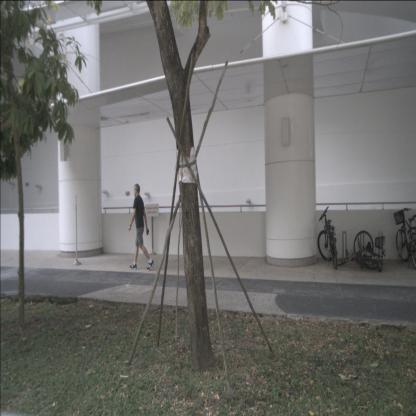human-pedestrian-adult: (129, 184, 154, 272)
vehicle-bicycle: (354, 228, 385, 273), (394, 209, 415, 275), (338, 248, 370, 274)
